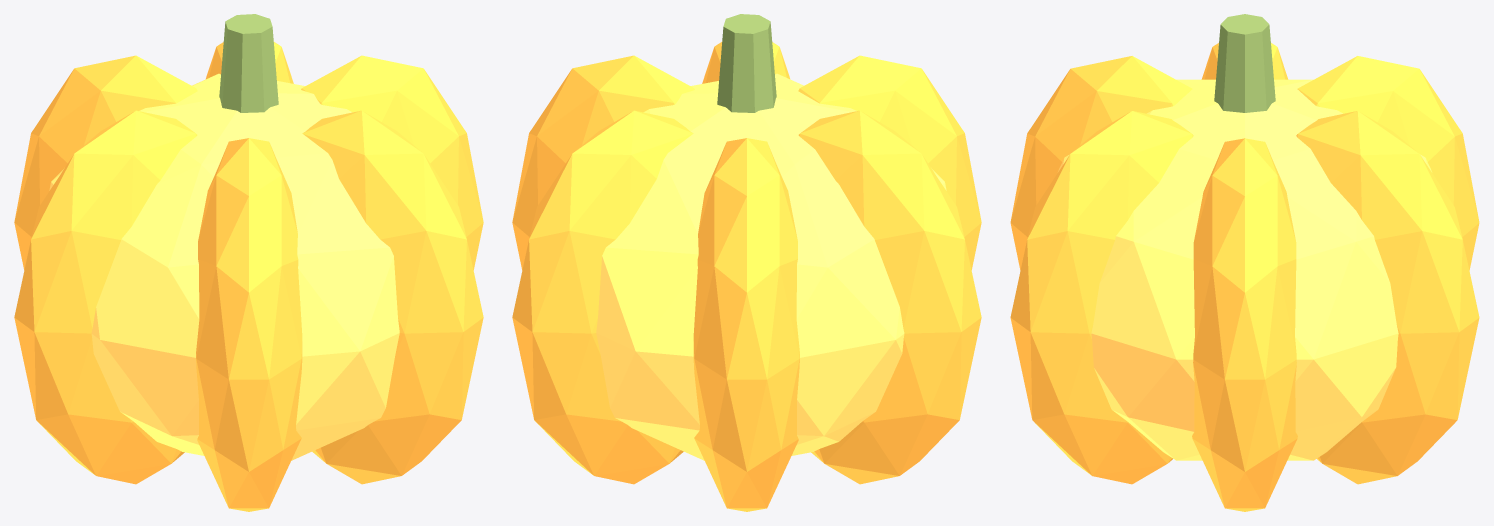
The model's file is halloween_mini_pumpkin.glb.
3 views of the same model, side by side, from view 1: azimuth 30°, elevation 25°; view 2: azimuth 150°, elevation 25°; view 3: azimuth 270°, elevation 25° (orthographic).
Visible parts, largest first — view 1: MiniPumpkin; view 2: MiniPumpkin; view 3: MiniPumpkin.
Part boxes in pixels (x1=…): MiniPumpkin: x1=14, y1=14, x2=483, y2=511; MiniPumpkin: x1=512, y1=14, x2=981, y2=511; MiniPumpkin: x1=1010, y1=14, x2=1479, y2=511.
Bounding box in the file's own units: 1.38 × 1.27 × 1.25.
